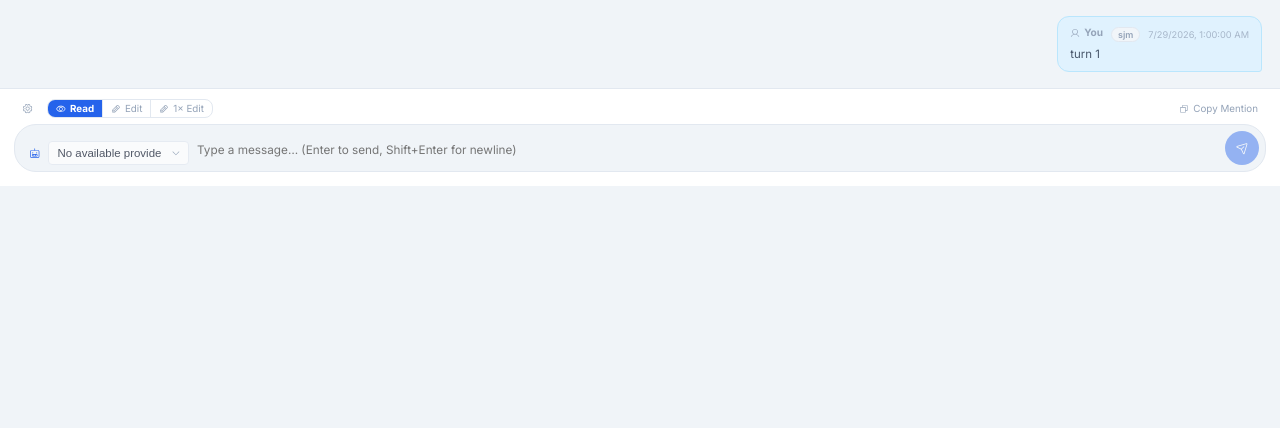
Scenario: ConversationView optimistic send › keeps an earlier failure above a later successful send and SSE reply
Type "failed A" into the text box with placeholder "Type a message… (Enter to send, Shift+Enter for newline)".
click(707, 151); type("failed A")  # box [197,137,1217,165]
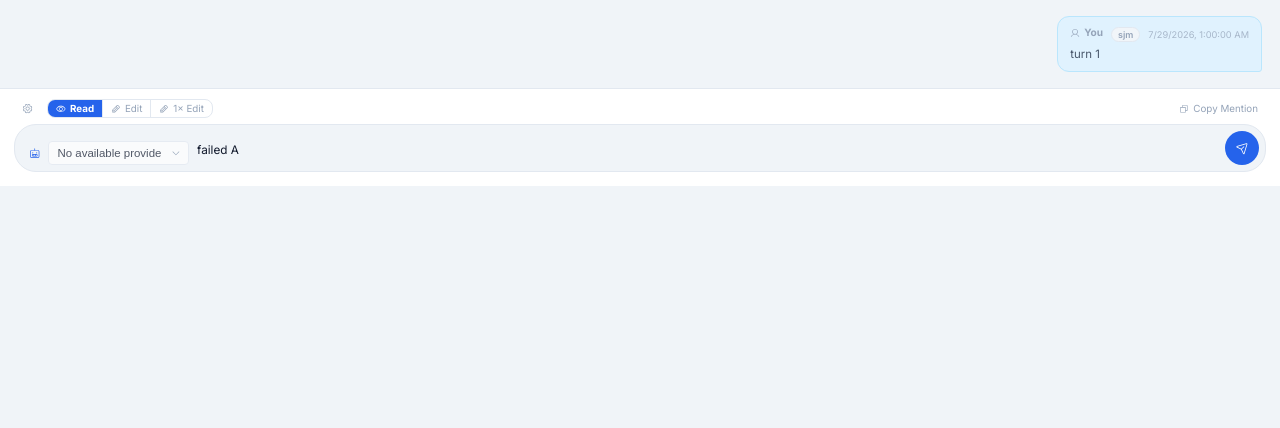
Submit the form, box [0,88,1279,186]
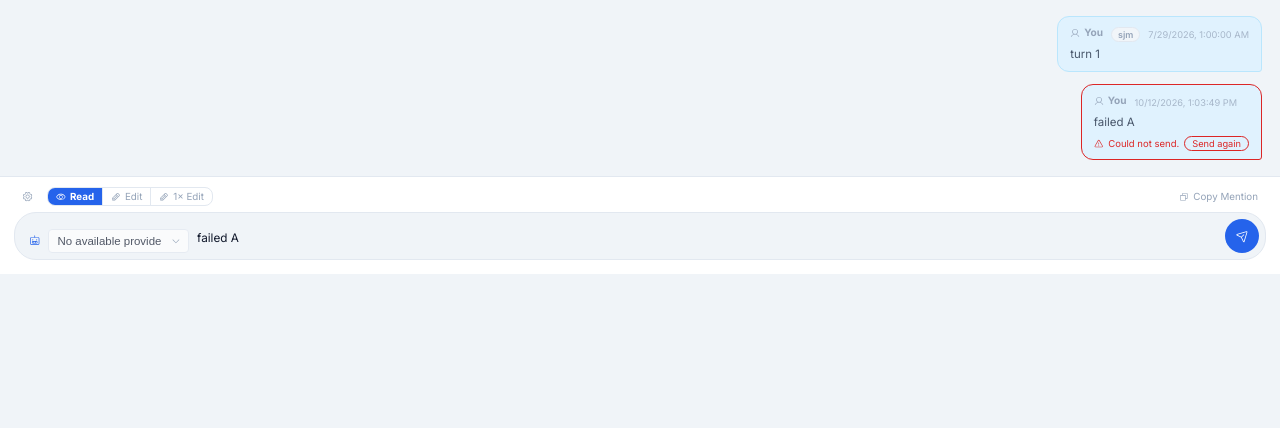
Replace the text in the text box with "sent B" at coordinates (707, 239), box [197,225,1217,253]
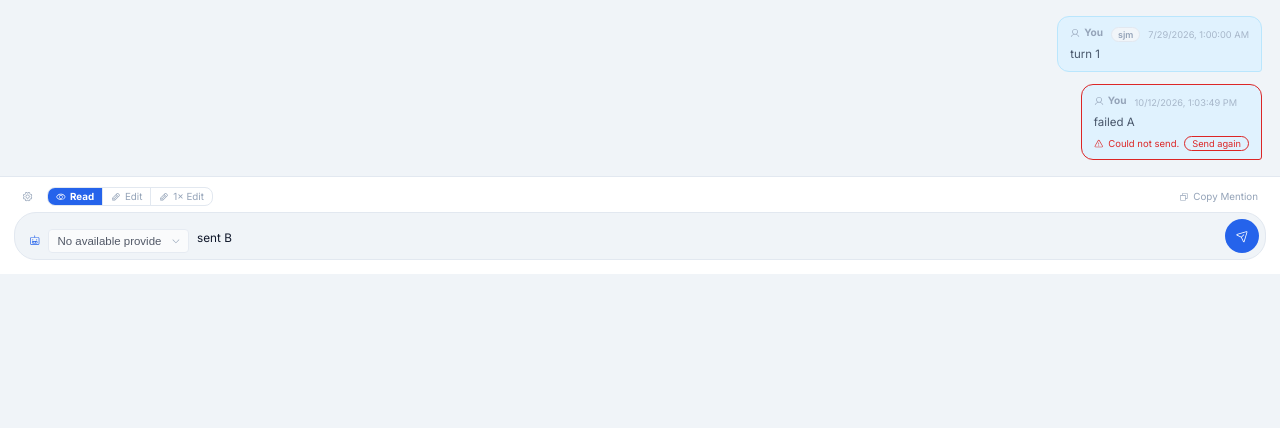
Submit the form, box [0,176,1279,274]
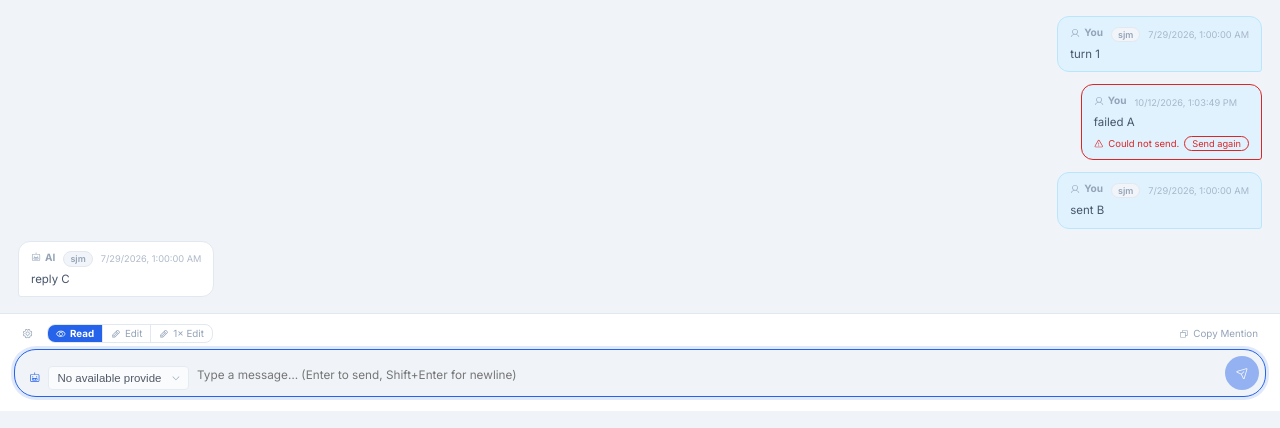
Now the elements with class "conv-body" read "turn 1", "failed A", "sent B", "reply C", in this order, box [1070,47,1100,61]; [1094,115,1135,129]; [1070,203,1104,217]; [31,272,70,286]
Now the number of elements with class "is-failed" is 1, box [1081,84,1262,160]
